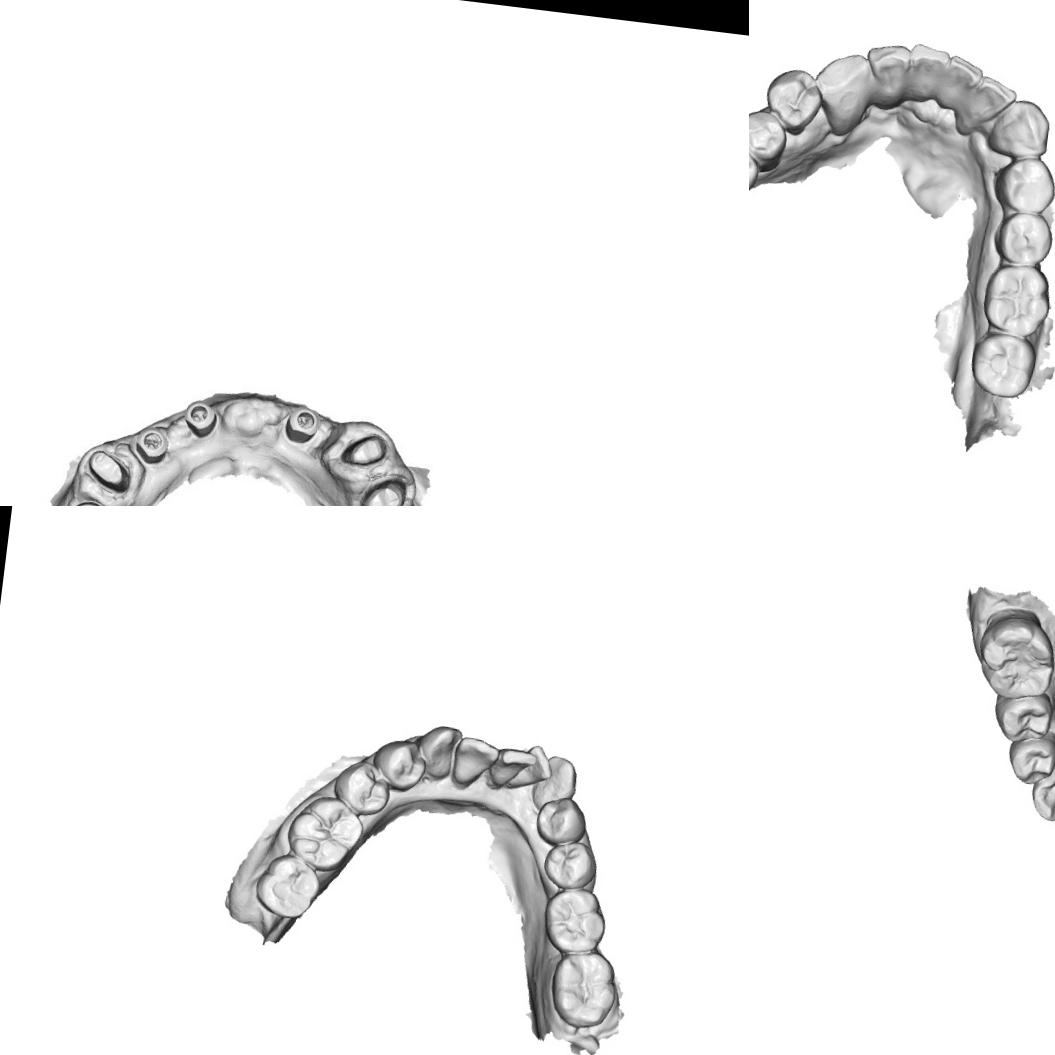canine: (805, 46, 878, 139), (979, 94, 1055, 163), (410, 722, 464, 782), (529, 752, 580, 815), (1027, 752, 1055, 825)
crown: (84, 446, 134, 495), (342, 429, 388, 471), (360, 475, 411, 506)
implant: (130, 422, 173, 468), (282, 402, 322, 450), (179, 394, 220, 438)
incisor: (858, 38, 916, 112), (963, 71, 1021, 132), (934, 50, 985, 114), (906, 41, 954, 107), (450, 735, 500, 790), (487, 745, 538, 791), (514, 742, 554, 796)
molar: (973, 604, 1055, 704), (283, 791, 368, 876), (546, 946, 620, 1032), (966, 328, 1046, 404), (981, 259, 1055, 340), (252, 850, 324, 922), (540, 884, 610, 957), (749, 132, 764, 207)
premolar: (759, 64, 827, 138), (988, 151, 1055, 218), (990, 685, 1055, 746), (330, 758, 393, 819), (991, 209, 1055, 269), (369, 736, 429, 793), (540, 837, 600, 894), (533, 793, 590, 850), (1004, 727, 1055, 788), (749, 104, 789, 172)
